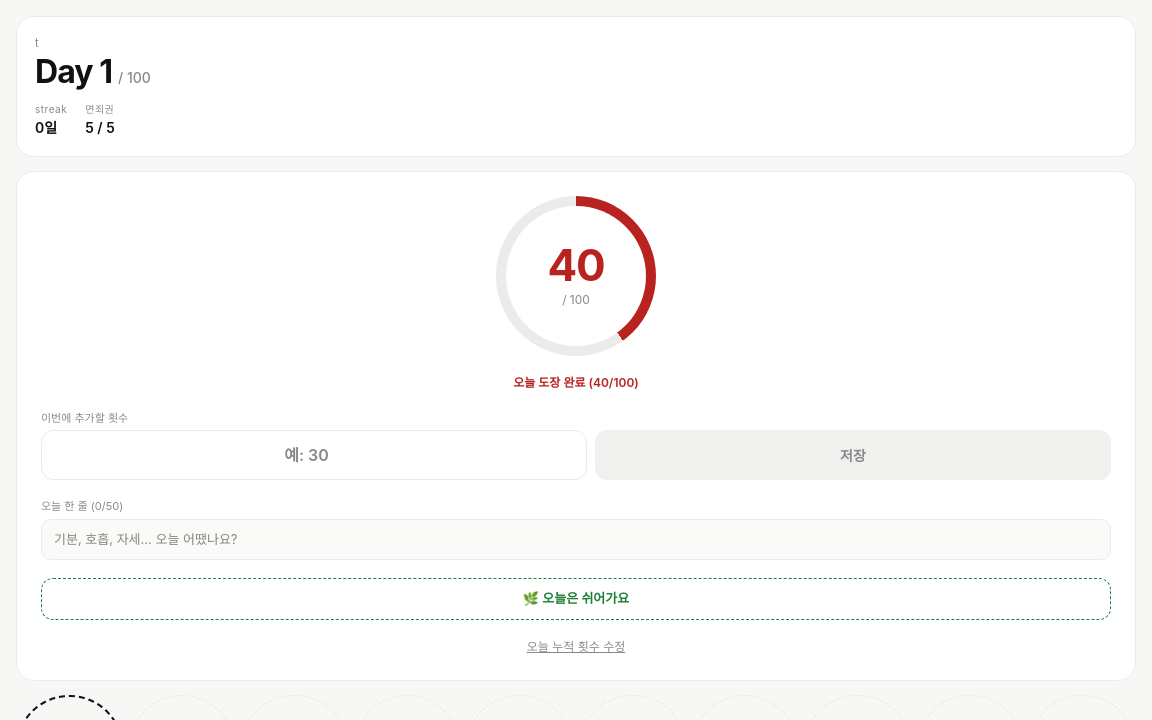
TodayCounter delta optimistic update › shows cumulative count immediately after add (optimistic)
Expected: the text "40" is shown, [548, 242, 604, 286]
In the number field labelled "이번에 추가할 횟수": coordinates (314, 455) [41, 430, 587, 480], type "30"
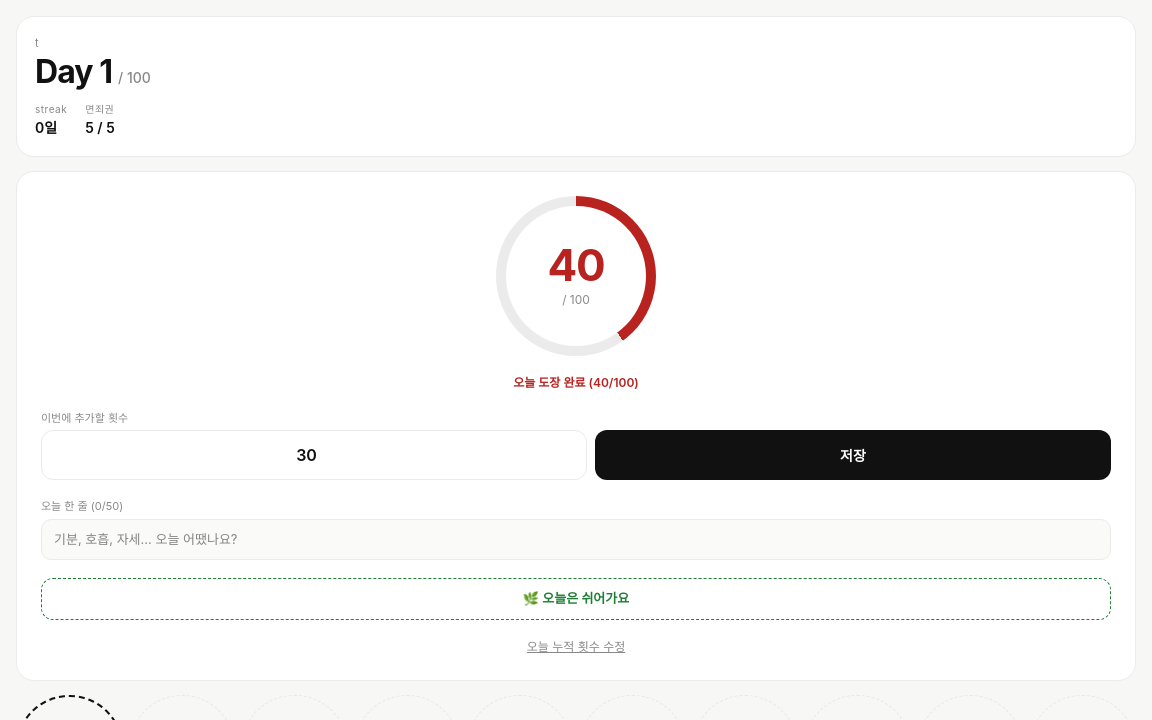
Click the button "저장": coordinates (853, 455) [595, 430, 1111, 480]
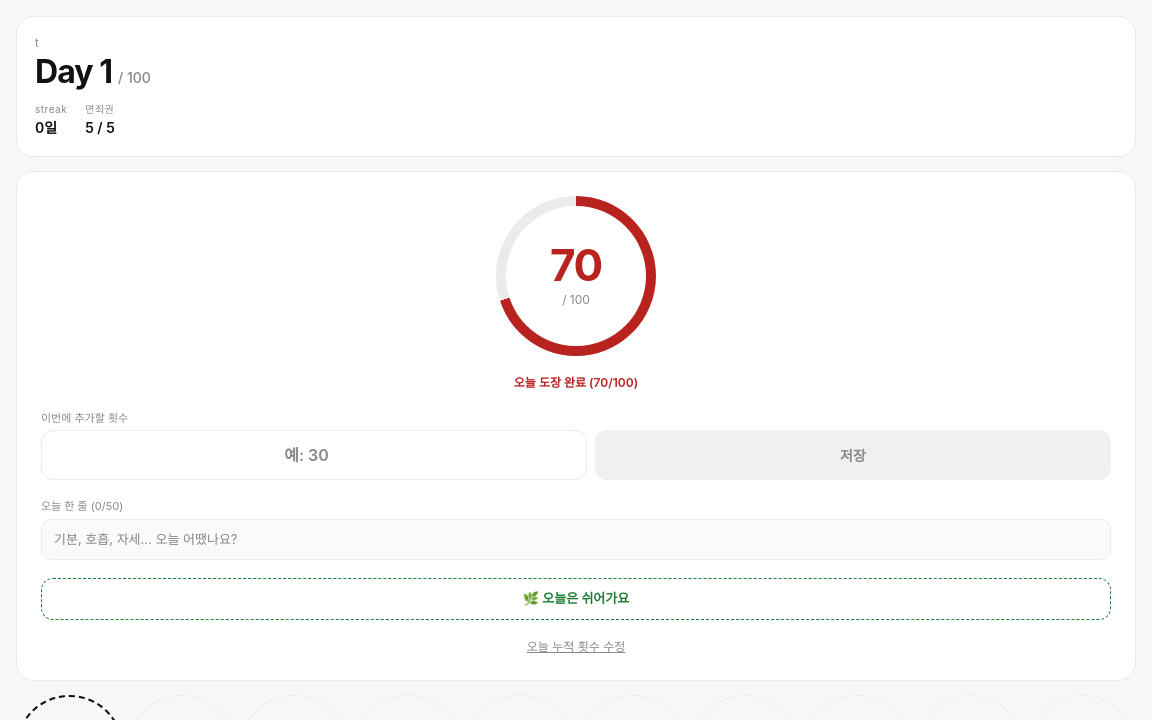
Now the text "70" is shown, box [550, 242, 602, 286]
